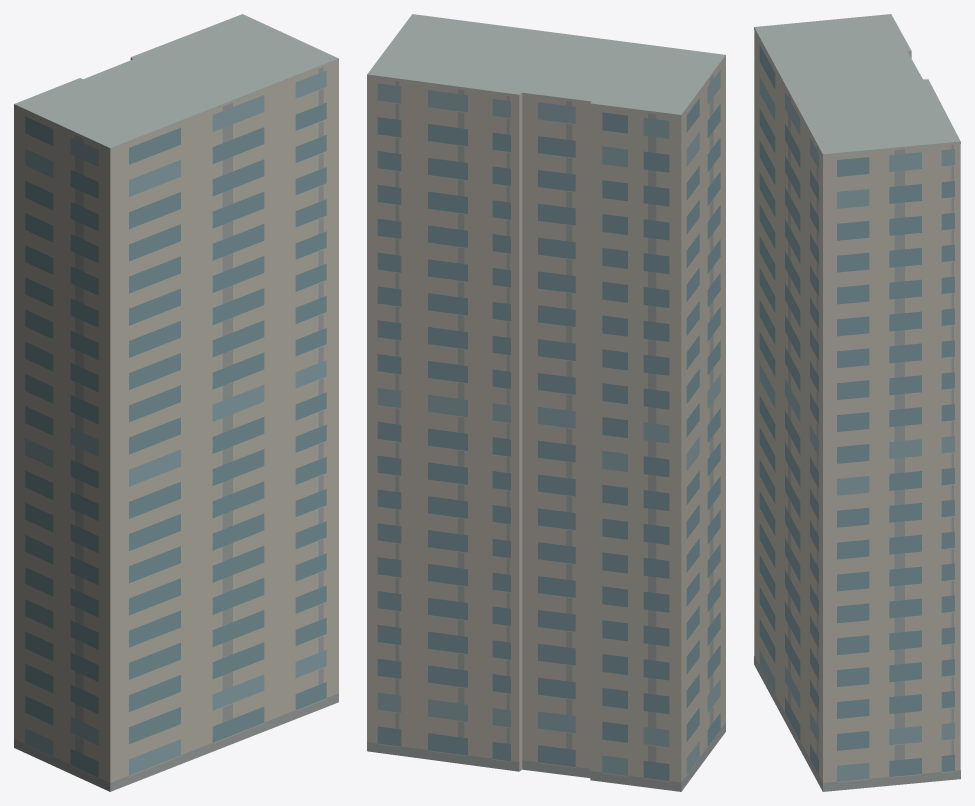
Rendered from survey-upis-32547740.glb.
The picture shows the model from 3 angles, left to right: view 1: azimuth 30°, elevation 25°; view 2: azimuth 150°, elevation 25°; view 3: azimuth 270°, elevation 25°; orthographic projection. The views are drawn at different scales.
Parts seen in each view (by area): view 1: survey-upis-32547740.tmp; view 2: survey-upis-32547740.tmp; view 3: survey-upis-32547740.tmp.
Part boxes in pixels (x1,y1,x2,y2): survey-upis-32547740.tmp: (14, 14, 338, 791); survey-upis-32547740.tmp: (367, 14, 725, 791); survey-upis-32547740.tmp: (754, 14, 960, 791).
Bounding box in the file's own units: 28.79 × 61 × 17.93.
